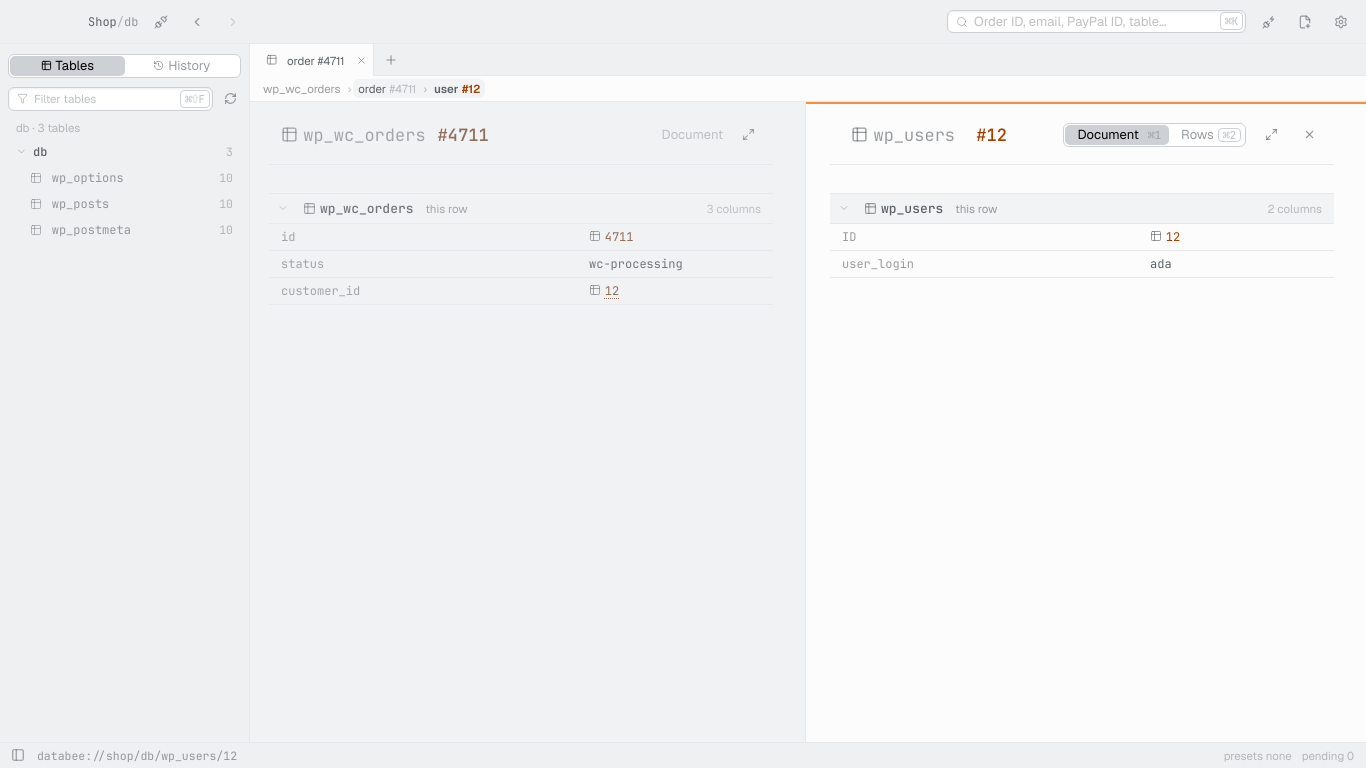
column stack › maximize › maximizes a pane that was not active
Check: the element showing "db 3 wp_options 10 wp_posts 10 wp_postmeta 10" is shown, box [16,144,233,238]
Check: the element named "Object header" is shown, box [269,102,773,165]
Click the 1st button named "Maximize pane" at (748,135), box [735,122,761,148]
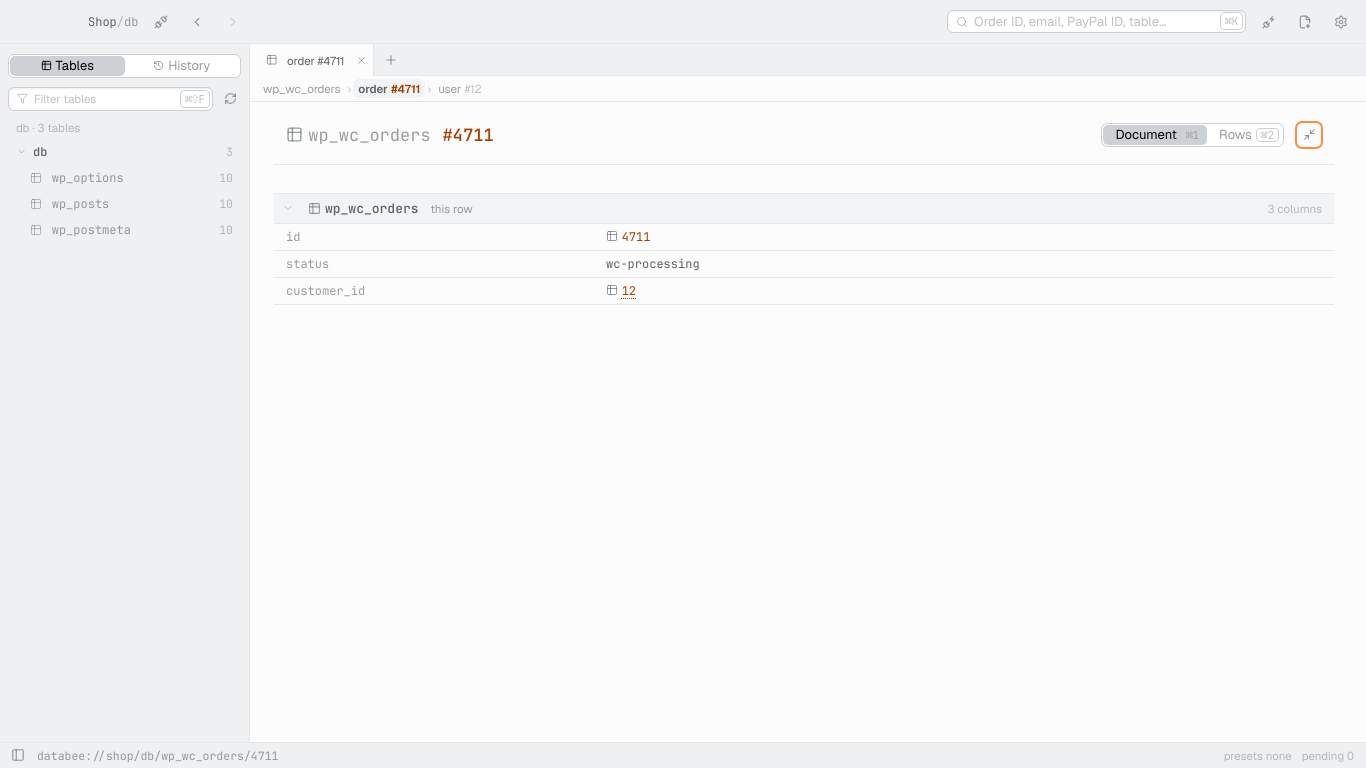
Check: the element "wp_users #12" is gone
